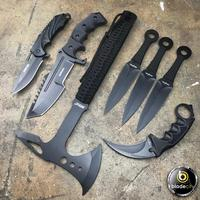knife: (100, 23, 189, 160), (27, 6, 103, 126), (5, 7, 59, 107)
